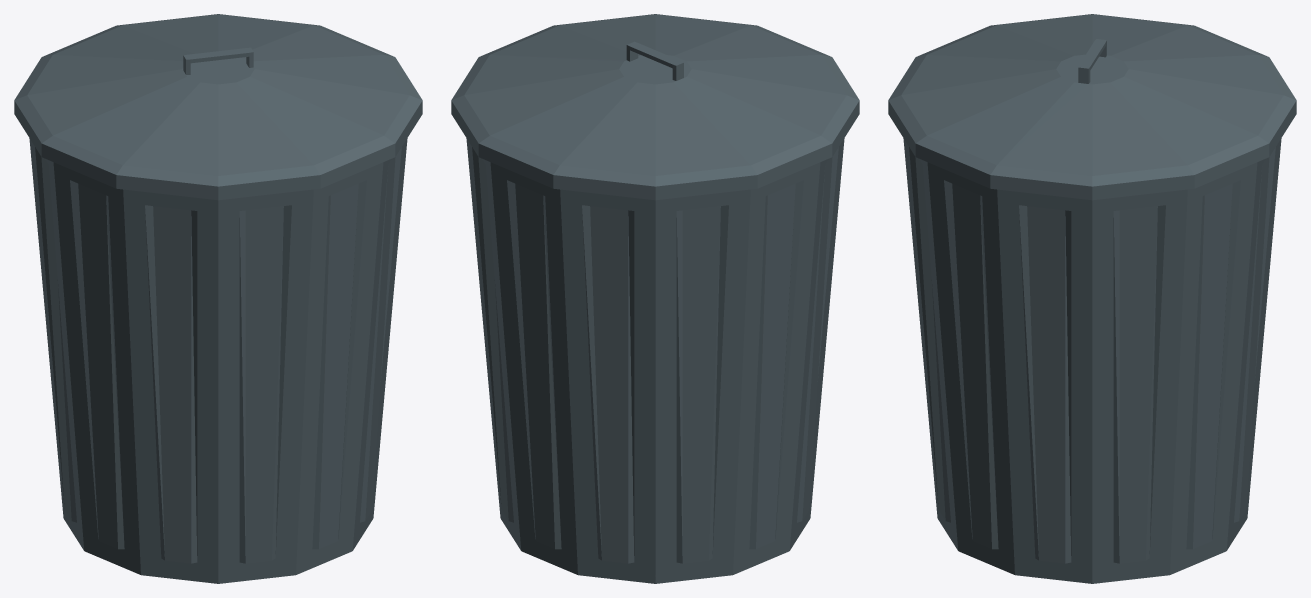
The model's file is trash_can.fbx.
The picture shows the model from 3 angles, left to right: view 1: azimuth 30°, elevation 25°; view 2: azimuth 150°, elevation 25°; view 3: azimuth 270°, elevation 25°; orthographic projection.
Parts seen in each view (by area): view 1: Cylinder007; view 2: Cylinder007; view 3: Cylinder007.
Boxes of the visible parts, x1,y1,x2,y2 form: Cylinder007: (14,14,422,583); Cylinder007: (451,14,859,583); Cylinder007: (888,14,1296,583).
Bounding box in the file's own units: 91.42 × 115 × 91.42.
